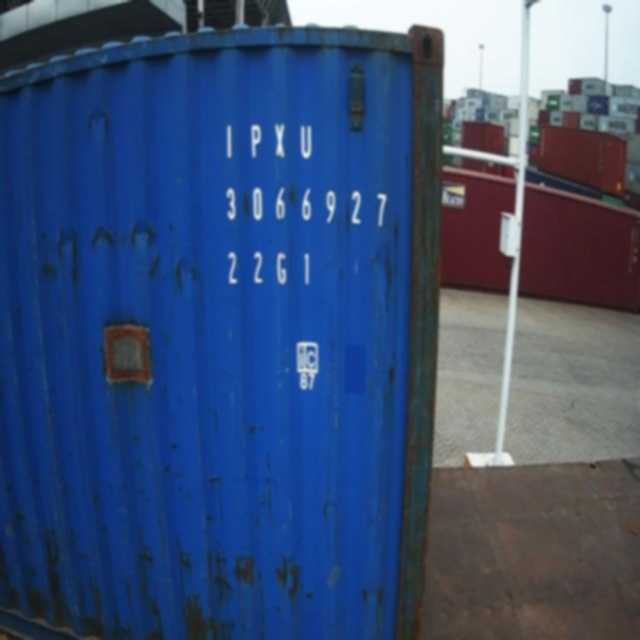Dent: (58, 219, 201, 296), (88, 93, 111, 157)
Rusty: (10, 519, 308, 640), (410, 27, 439, 609)
